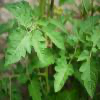Tomato leaf: (74, 45, 98, 99), (5, 25, 30, 67), (28, 28, 50, 68), (52, 54, 73, 94), (41, 23, 66, 51), (7, 4, 32, 31), (79, 13, 98, 37), (49, 18, 69, 37)
